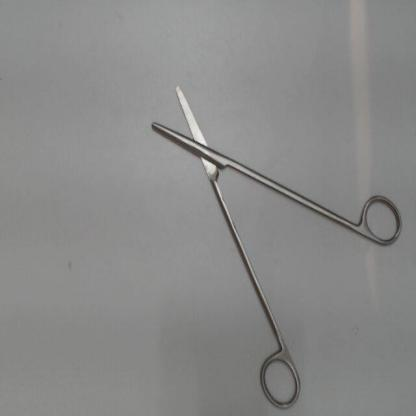9 Metzenbaum Scissors: (146, 80, 407, 414)
